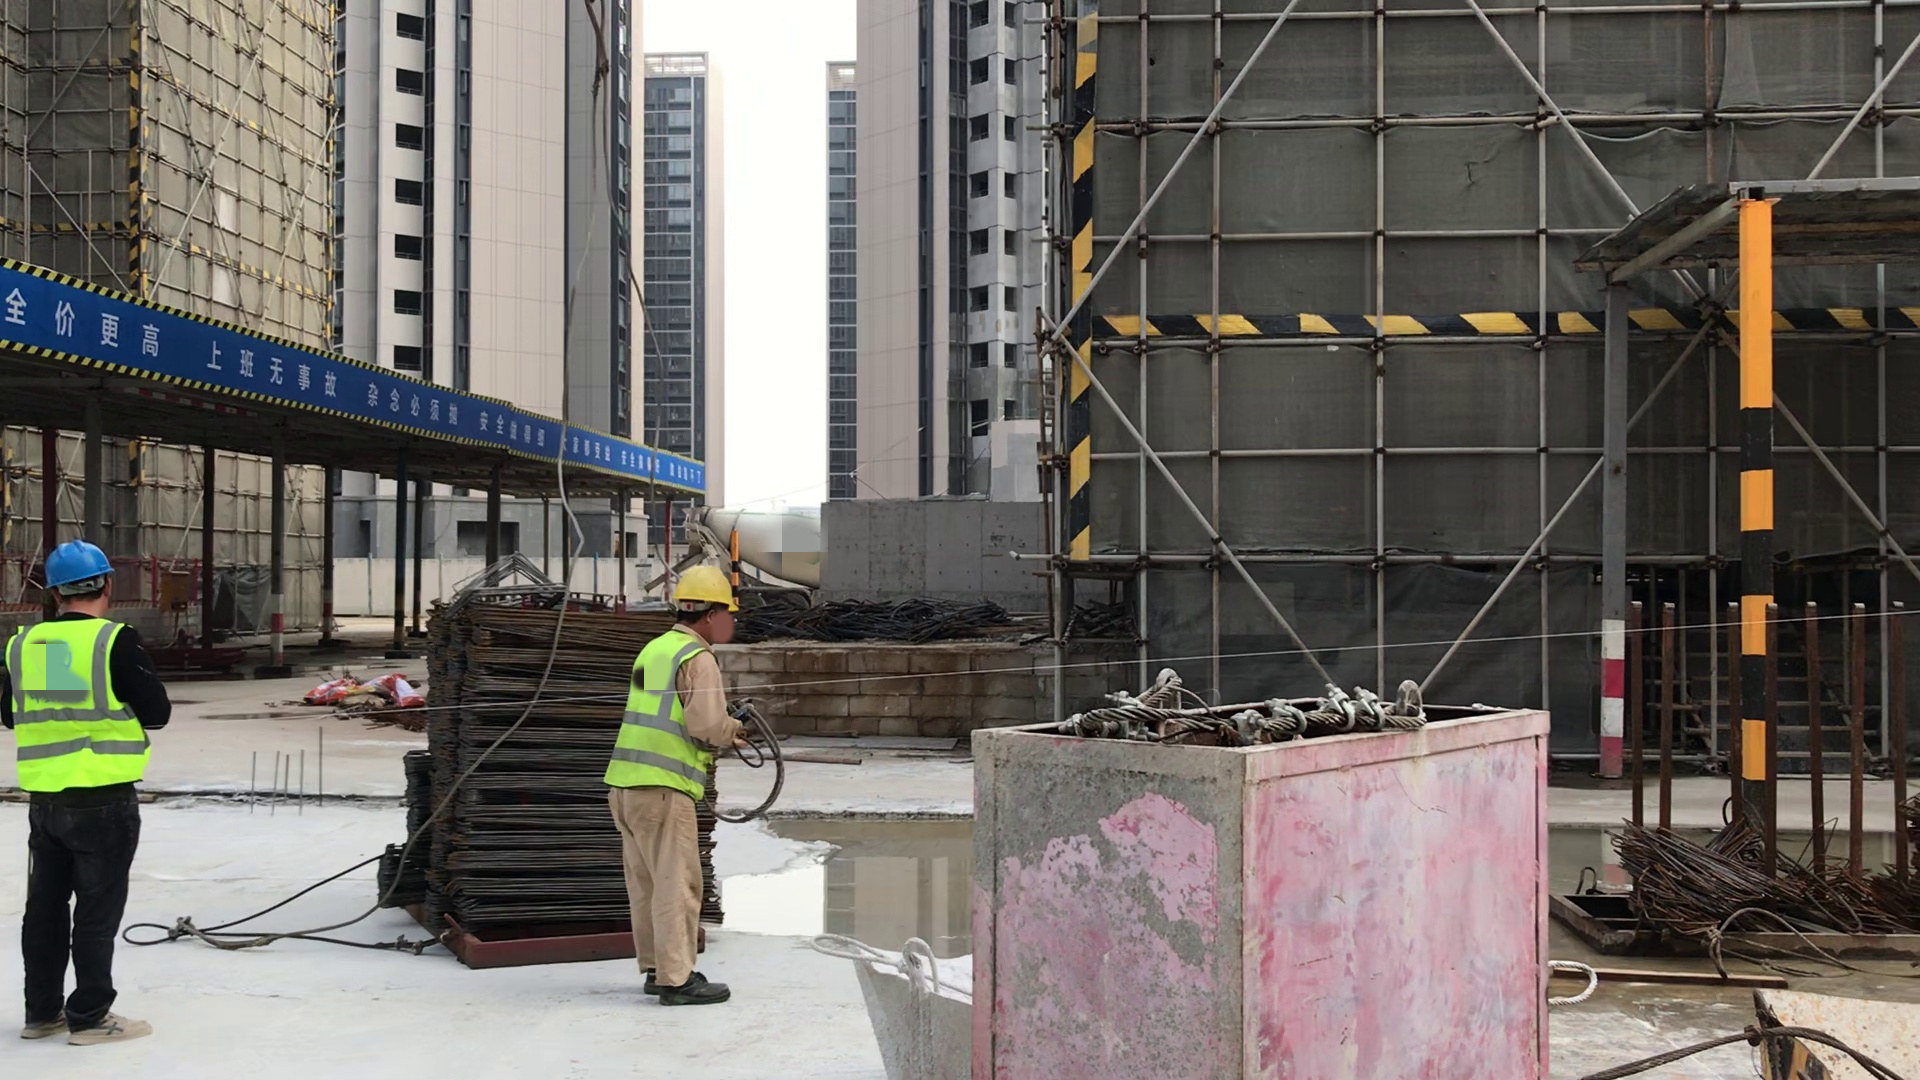ebox: (161, 570, 194, 607)
fence: (108, 550, 206, 607)
helmet: (664, 566, 744, 620), (36, 537, 115, 589)
hopper: (1717, 954, 1920, 1074), (831, 920, 978, 1079)
person: (1, 536, 161, 1048), (617, 562, 747, 1011)
vest: (4, 614, 164, 789), (622, 633, 705, 800)
